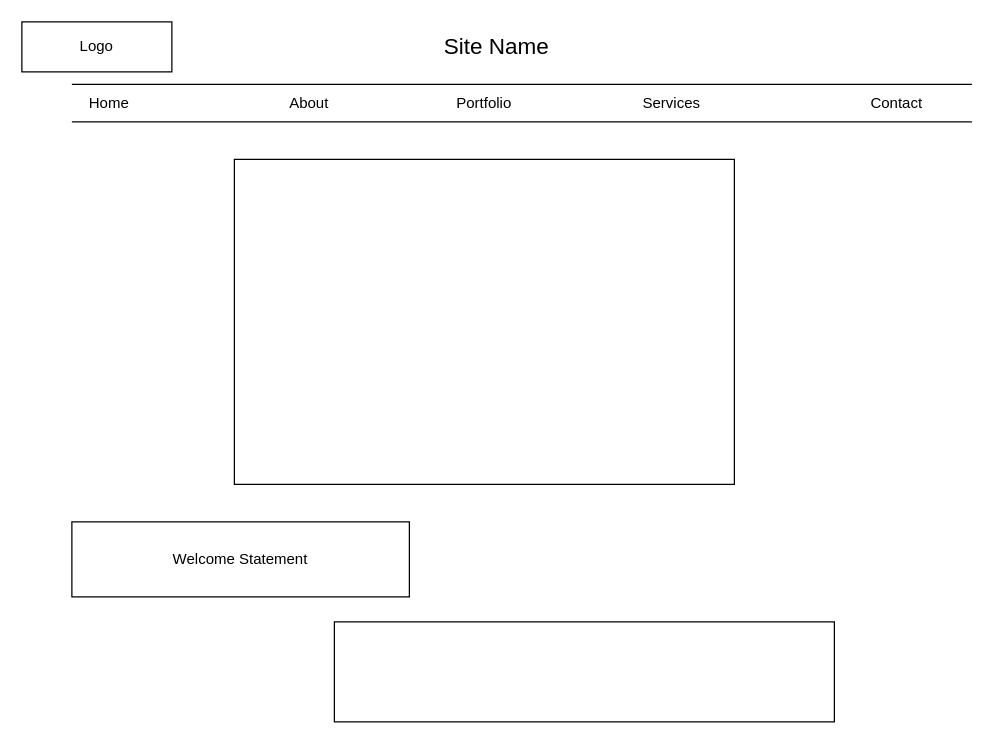
This 995x744 diagram has some shape labels left out. The centre of each missing label's shape, as x and y in pixels:
"Featured Video" goes at pixel 483 321.
"Small Bio" goes at pixel 583 671.
